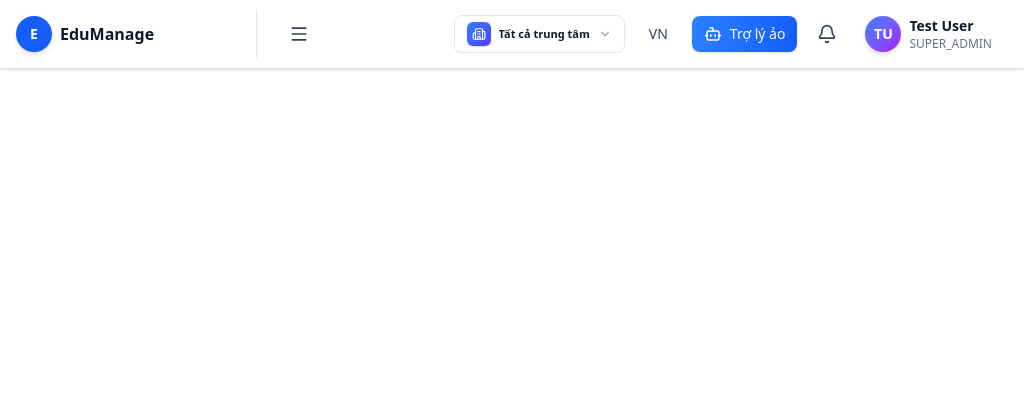
Test: TopNavBar notifications › opens dropdown and shows tabs with counts
Click the 5th button.
click(827, 34)  # box [809,16,845,52]
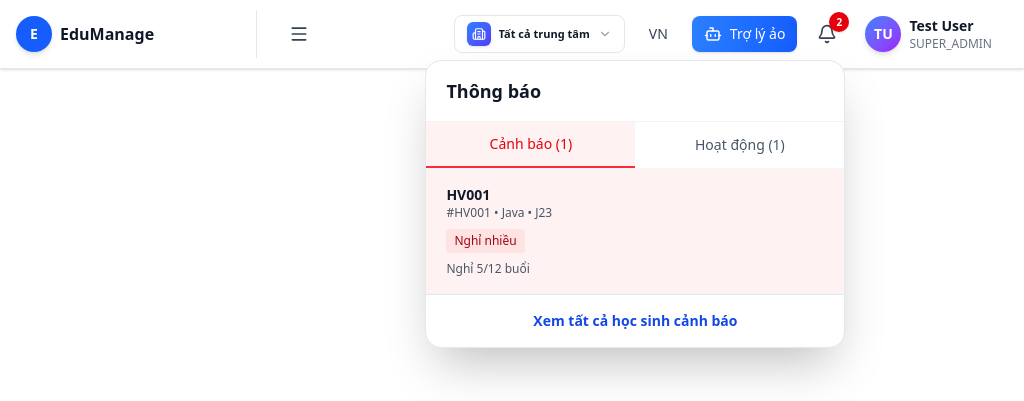
Check: the button "Cảnh báo (1)" is shown, box [426,122,635,168]
Check: the text "Hoạt động (1)" is shown, box [695,135,785,155]
